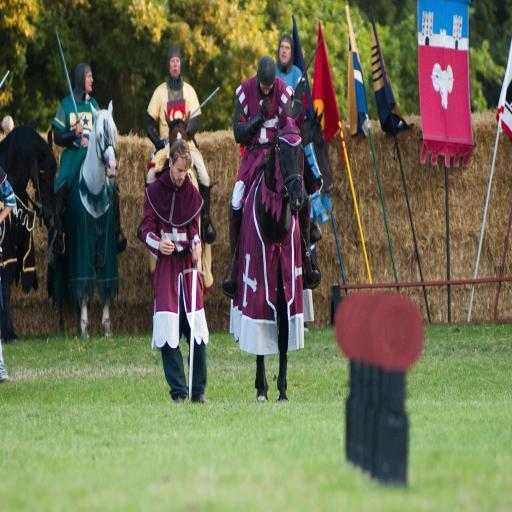horse: (238, 105, 306, 402), (47, 100, 115, 340), (0, 122, 57, 344), (298, 107, 334, 333), (298, 106, 336, 198), (162, 111, 198, 177), (162, 107, 191, 149)
